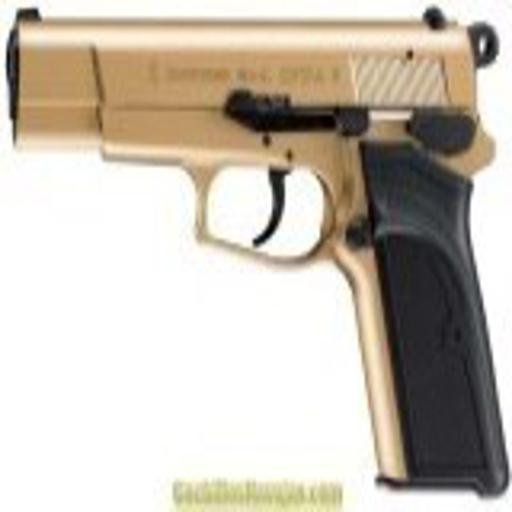Handgun: (2, 3, 511, 493)
